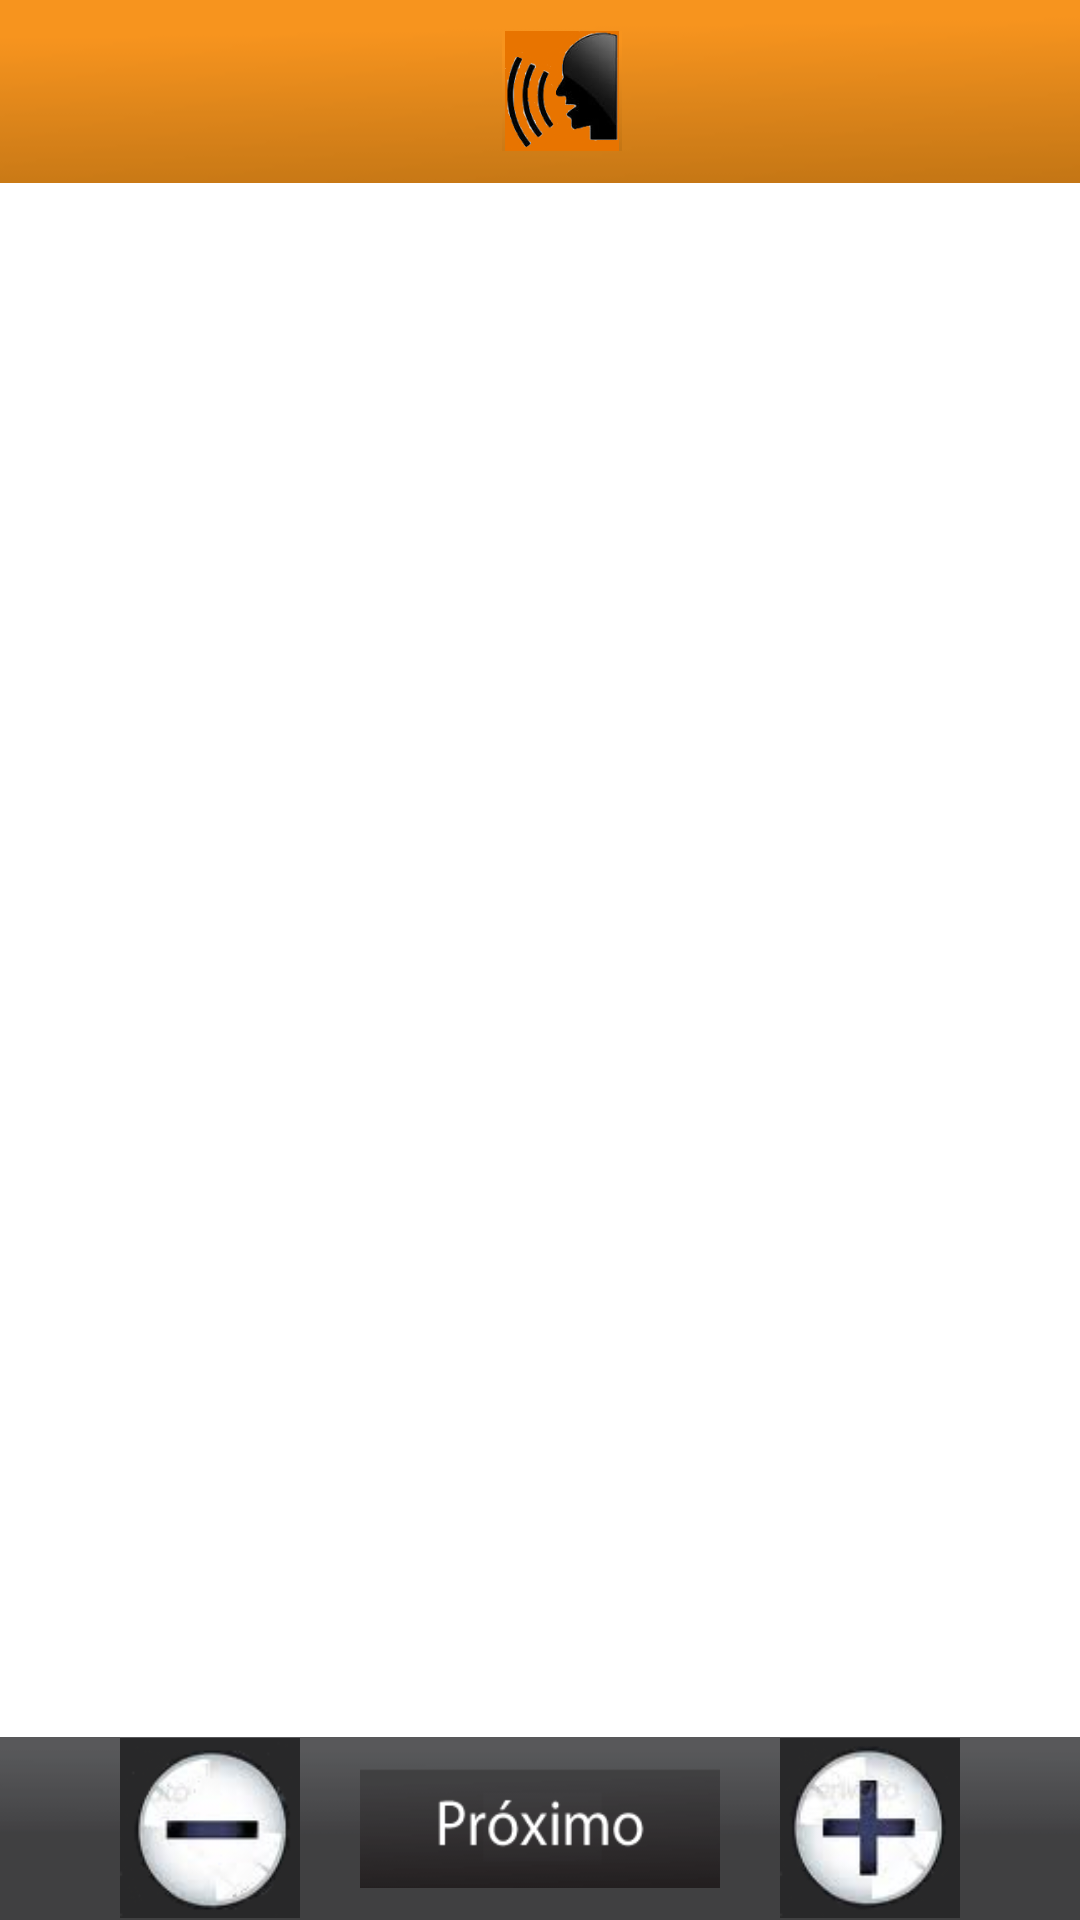

Icon click points for this 1080 x 1920 phone screenshot, format (x,y):
minus sign: (210,1828)
plus sign: (870,1828)
Sound Icon: (562,91)
